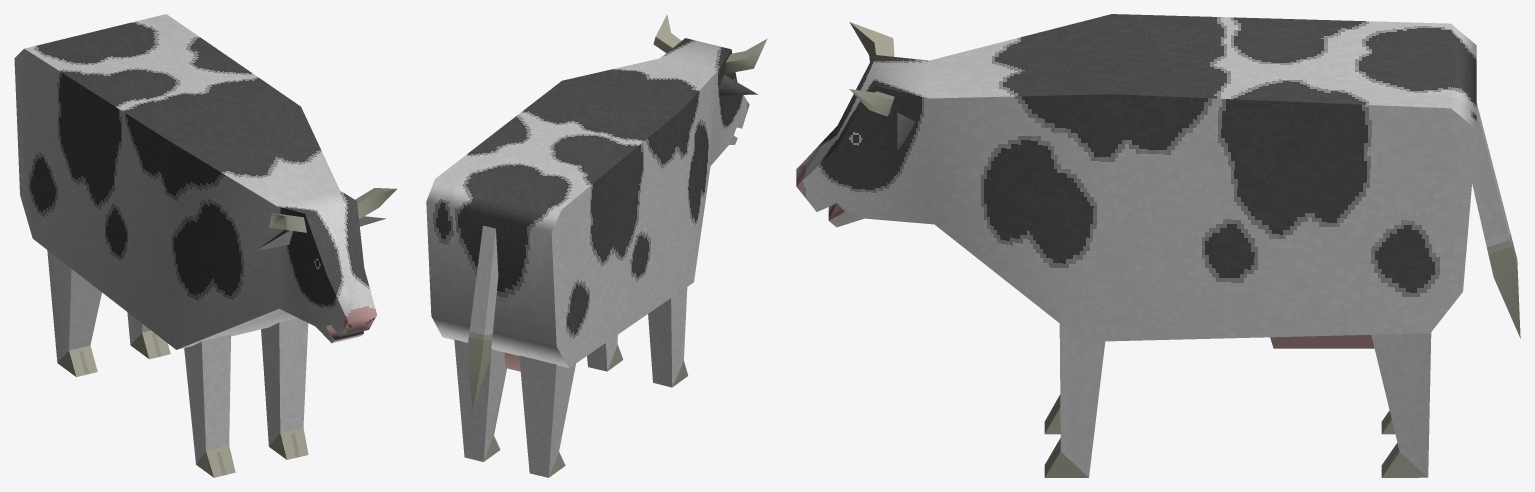
File: 01e7_Dairy_Cow.glb
The picture shows the model from 3 angles, left to right: view 1: azimuth 30°, elevation 25°; view 2: azimuth 150°, elevation 25°; view 3: azimuth 270°, elevation 25°; orthographic projection. The views are drawn at different scales.
Parts seen in each view (by area): view 1: part_0; view 2: part_0; view 3: part_0.
Part boxes in pixels (left/top/right/bottom): part_0: left=14, top=14, right=396, bottom=477; part_0: left=426, top=14, right=767, bottom=477; part_0: left=796, top=14, right=1520, bottom=477.
Size of the model in its own units: 0.6779 by 1.47 by 2.45.
1 material, 1 textured.
